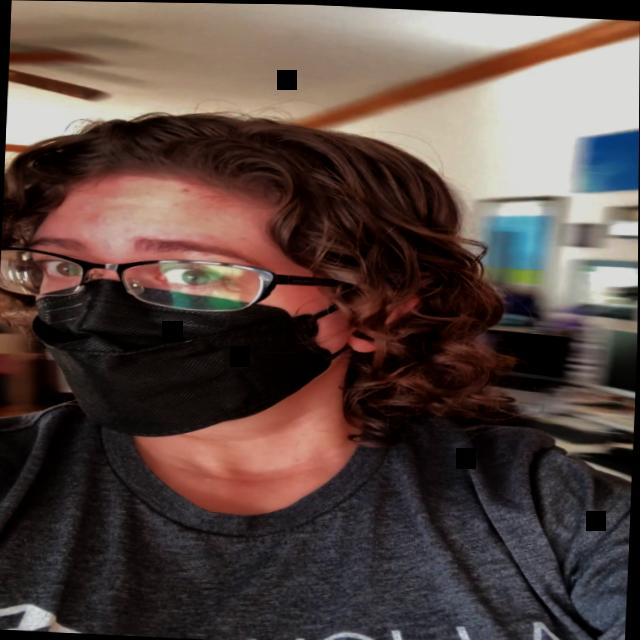Mask: (12, 163, 367, 442)
